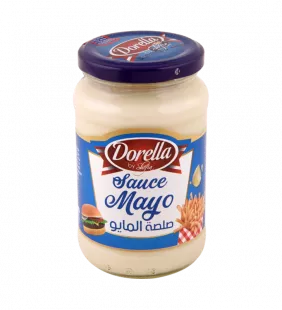DORELLA: (67, 20, 220, 284)
